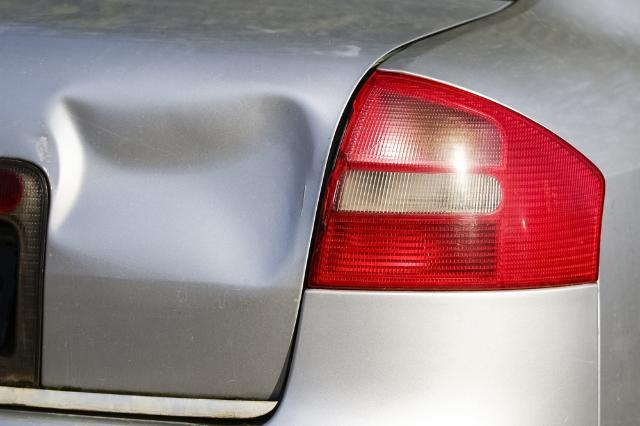dent: (45, 95, 313, 286)
